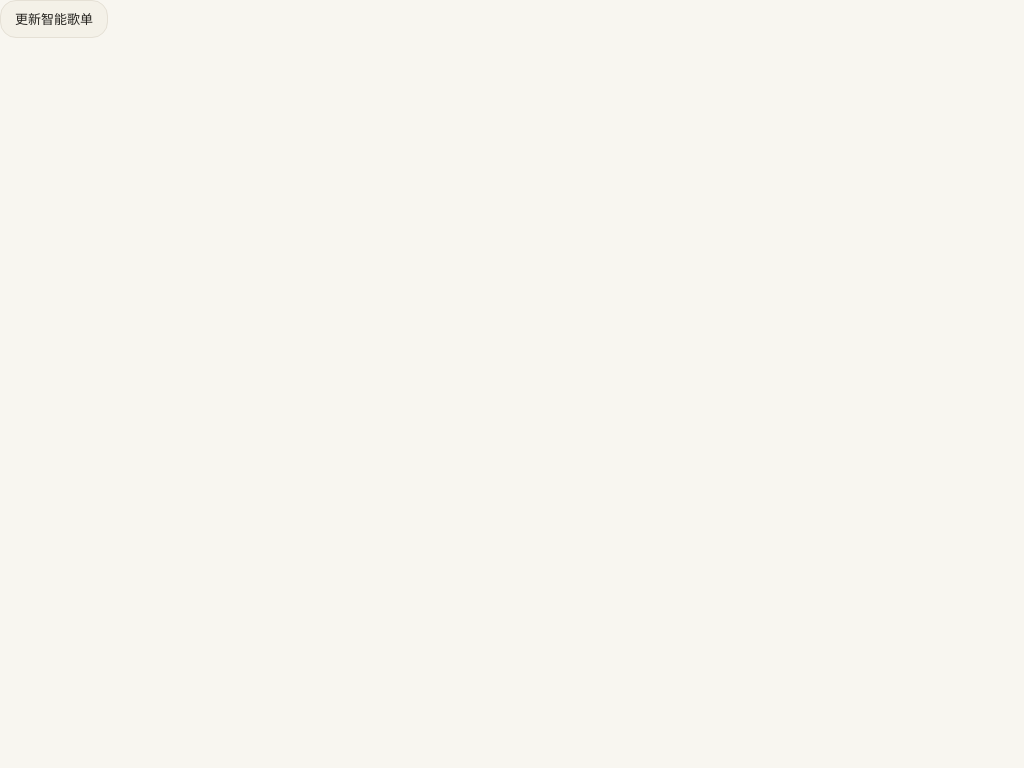
Scenario: 智能歌单 › 编辑保存到原歌单，保持完整规则而不创建副本
The width and height of the screenshot is (1024, 768).
Later steps or results of the test are not shown.
Click the button "更新智能歌单" at (54, 19), box top-left (0, 0), bottom-right (108, 38)
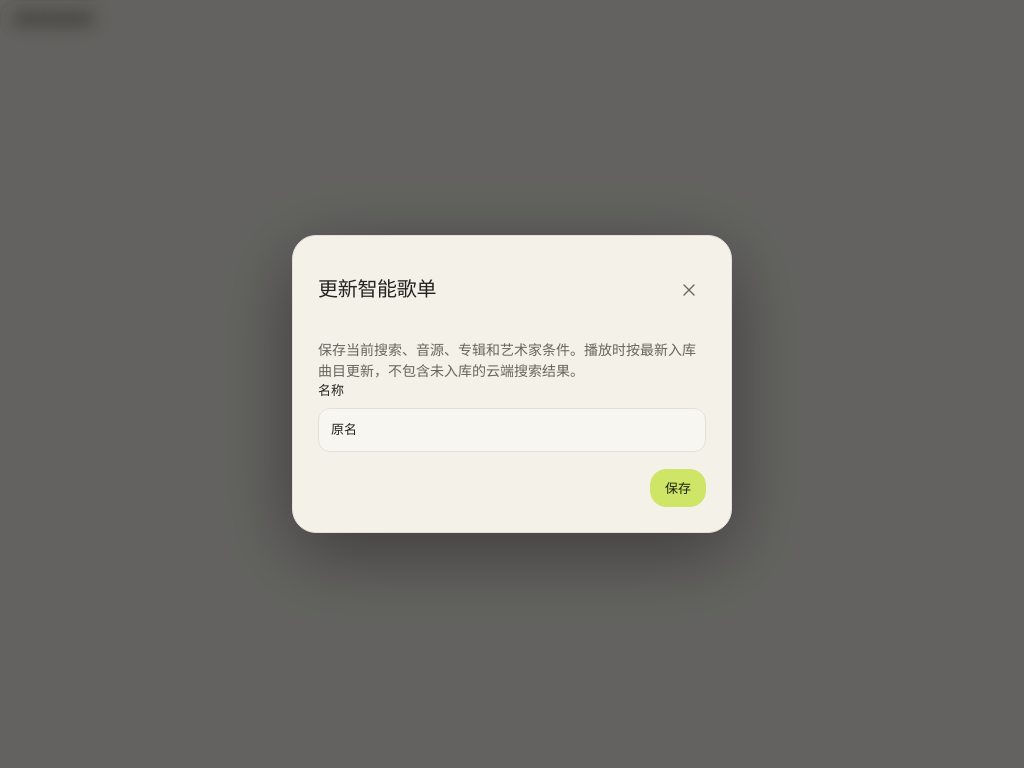
Result: the field labelled "名称" holds "原名" at top-left (318, 408), bottom-right (706, 452)
